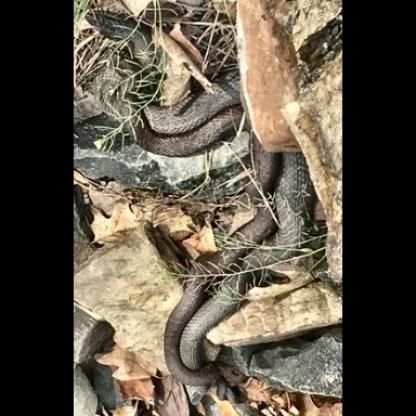Snake: (98, 12, 330, 408)
